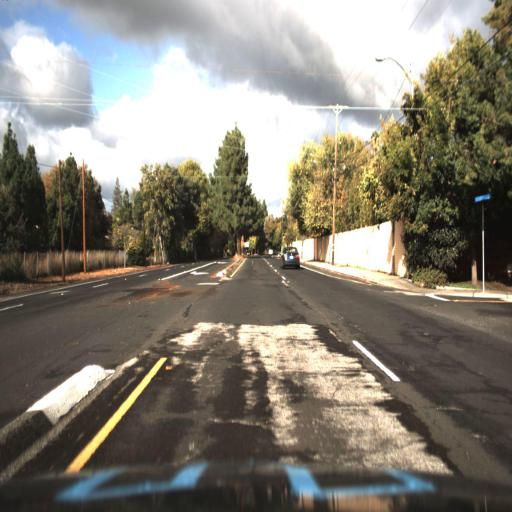car: (279, 245, 302, 269)
